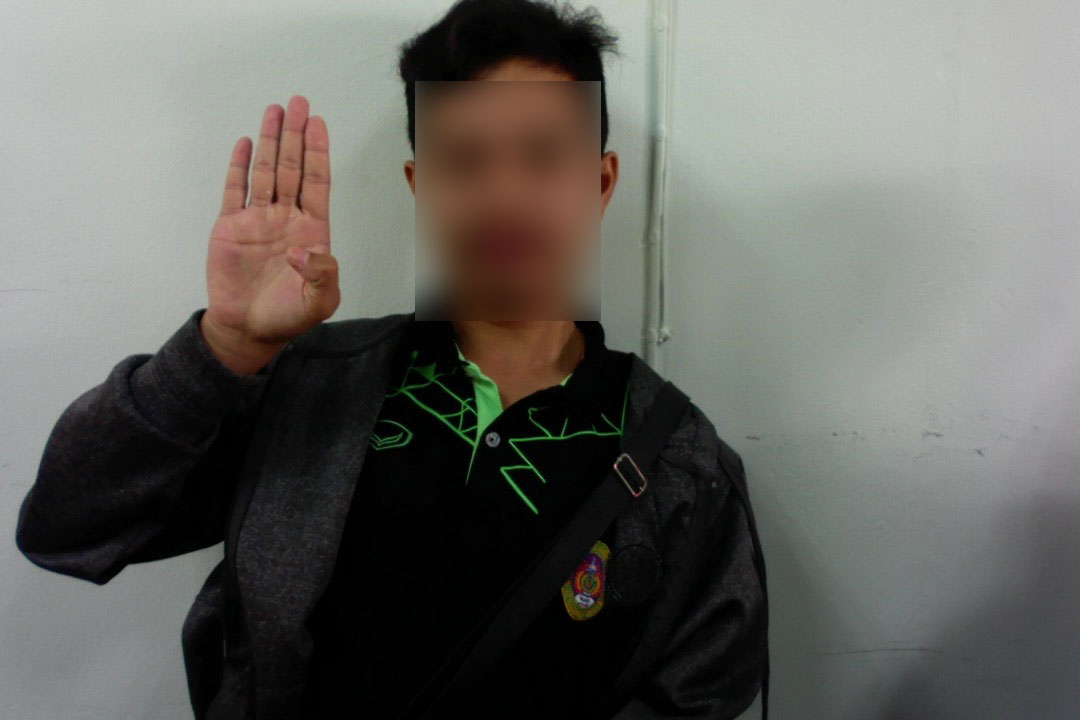bor: (200, 87, 347, 349)
